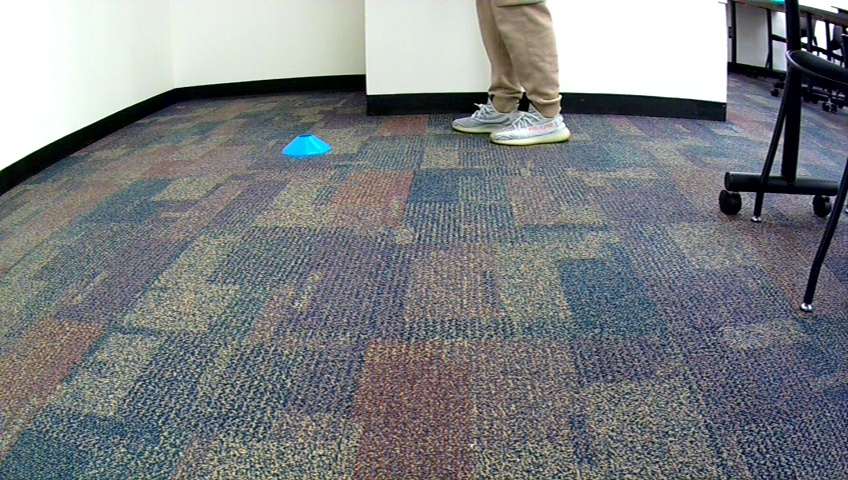cone: (280, 134, 332, 155)
